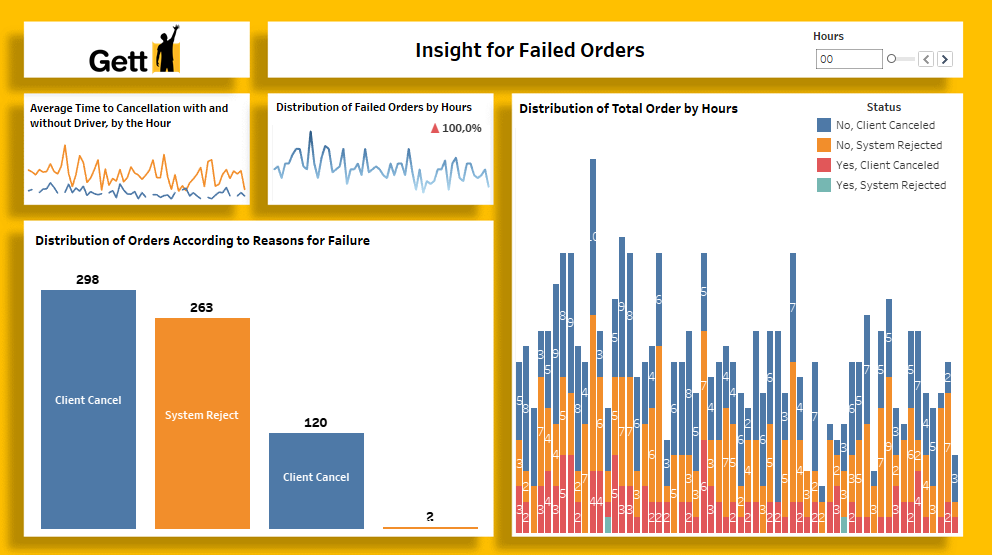

Layout of this report page (visuals, bound fields, positions):
{"tool":"tableau","page":{"name":"Insight for Failed Orders","canvas":[1024,768],"ordinal":1},"visuals":[{"type":"image","param":"Image/Slide1 1.png","box":[8,8,1008,752]},{"type":"image","param":"Image/Gett_logo_PNG4 1.png","box":[65,129,174,51]},{"type":"text","box":[293,130,508,48]},{"type":"parameter","param":"[Parameters].[Order Datetime Parameter]","box":[830,133,143,62]},{"type":"worksheet","title":"EDA 3","mark":"Automatic","rows":["cancellations"],"cols":["order_datetime"],"box":[45,200,218,106]},{"type":"worksheet","title":"EDA 2","mark":"Automatic","rows":["order_id"],"cols":["order_datetime"],"box":[289,200,218,106]},{"type":"worksheet","title":"EDA 4","mark":"Bar","rows":["order_id"],"cols":["order_datetime"],"box":[536,204,437,430]},{"type":"legend","title":"EDA 4","param":"[federated.060cugl0d4sqc410c384815j2y43].[none:Calculation_564075874388217856:nk","box":[829,207,150,83]},{"type":"worksheet","title":"Order","mark":"Automatic","box":[438,213,69,40]},{"type":"worksheet","title":"EDA 1","mark":"Bar","rows":["order_id","order_id"],"cols":["driver_assigned","order_status"],"box":[48,332,456,302]}]}

Visuals, with their boxes on the page's 1024x768 design canvas (x1, y1, x2, y2). These are canvas units, not pixel positions in the 992x555 screenshot, which may show the page scaled, cropped or inside an application window:
image: box(8, 8, 1016, 760)
image: box(65, 129, 239, 180)
text: box(293, 130, 801, 178)
parameter: box(830, 133, 973, 195)
"EDA 3" worksheet: box(45, 200, 263, 306)
"EDA 2" worksheet: box(289, 200, 507, 306)
"EDA 4" worksheet (Bar marks): box(536, 204, 973, 634)
"EDA 4" legend: box(829, 207, 979, 290)
"Order" worksheet: box(438, 213, 507, 253)
"EDA 1" worksheet (Bar marks): box(48, 332, 504, 634)
